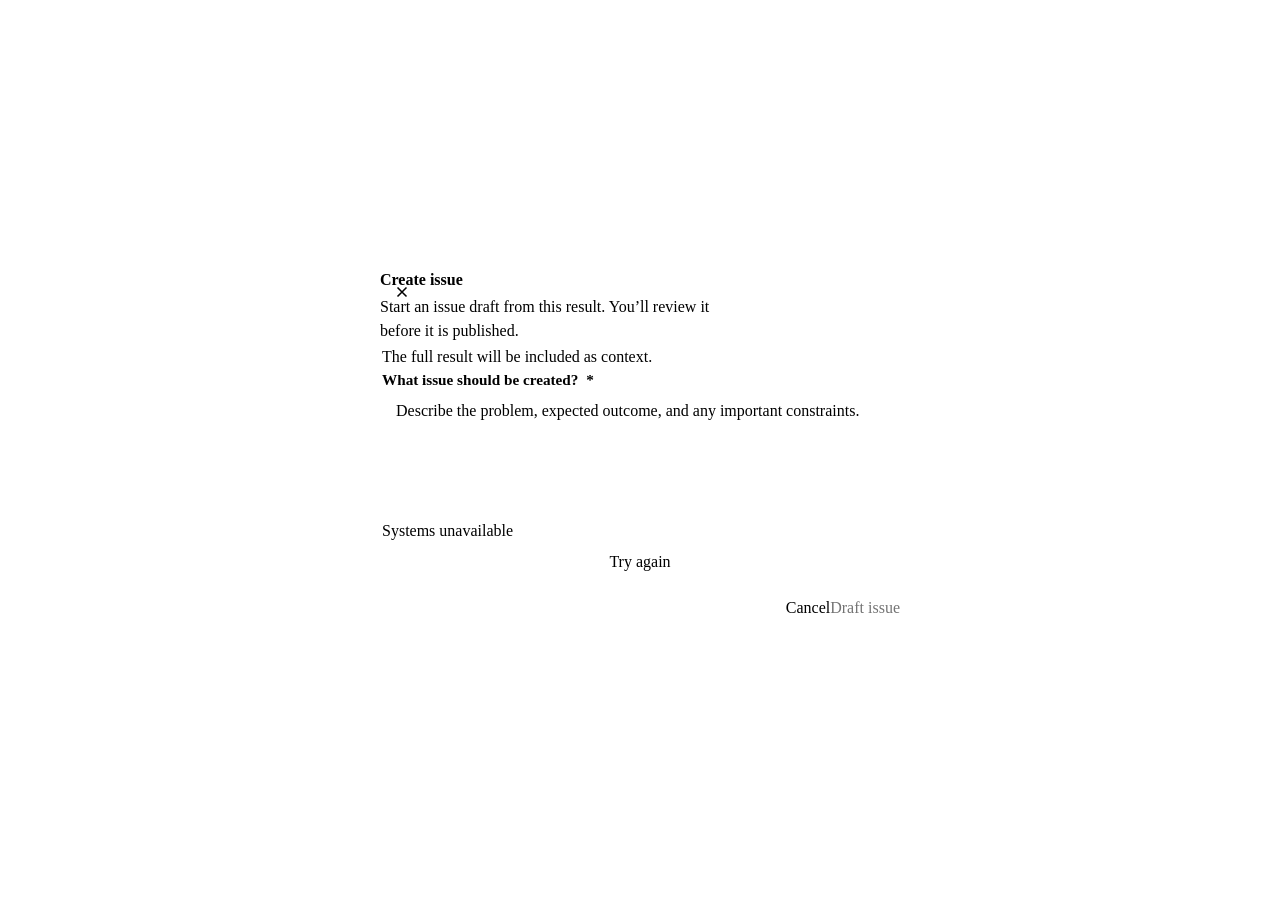
recovers ticket systems without losing typed instructions and requires an explicit system choice
Replace the text in the text box labelled "What issue should be created? *" with "Make the mobile flow usable" at (654, 456), box [382,390,926,522]
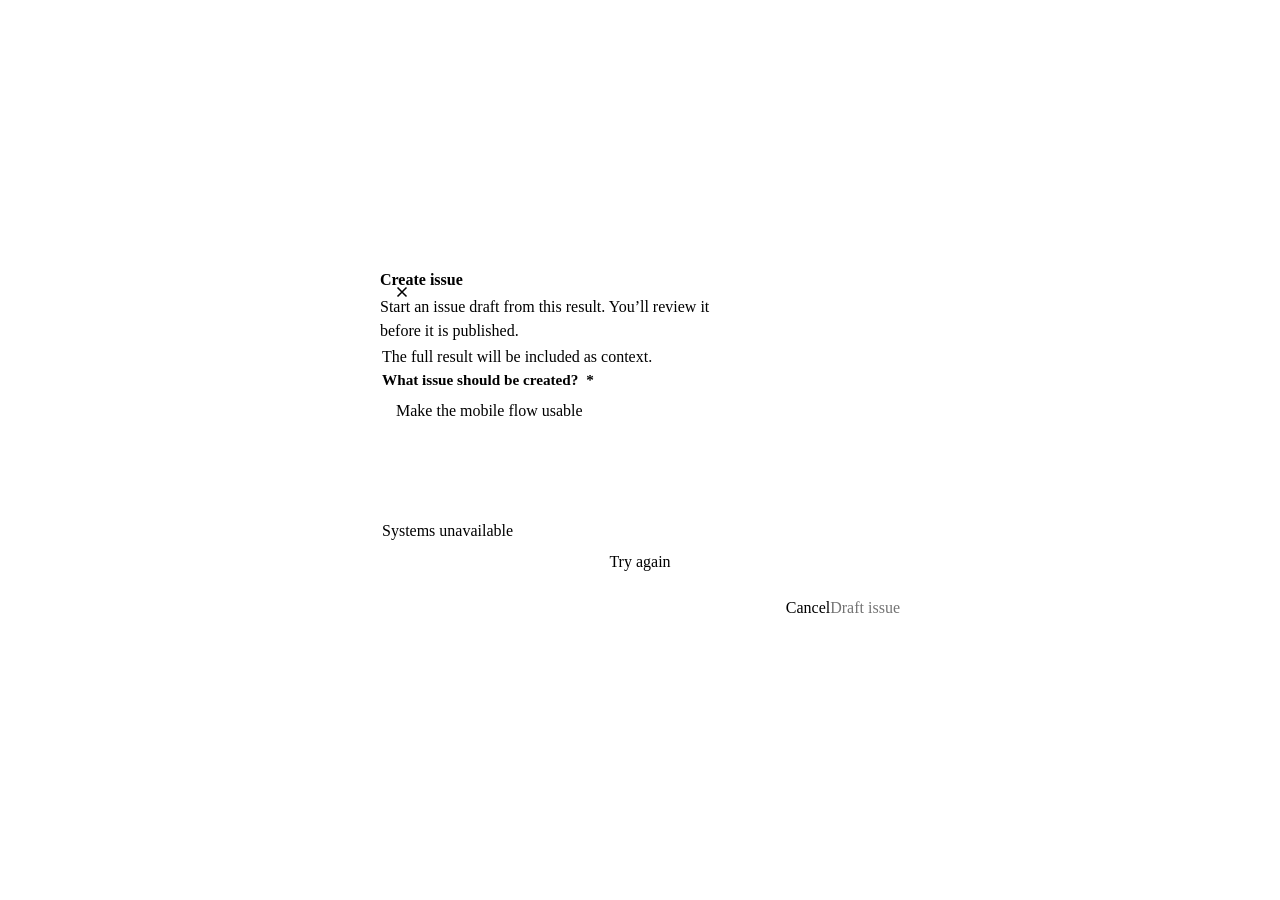
Click the button "Try again" at (640, 562), box [382,540,898,584]
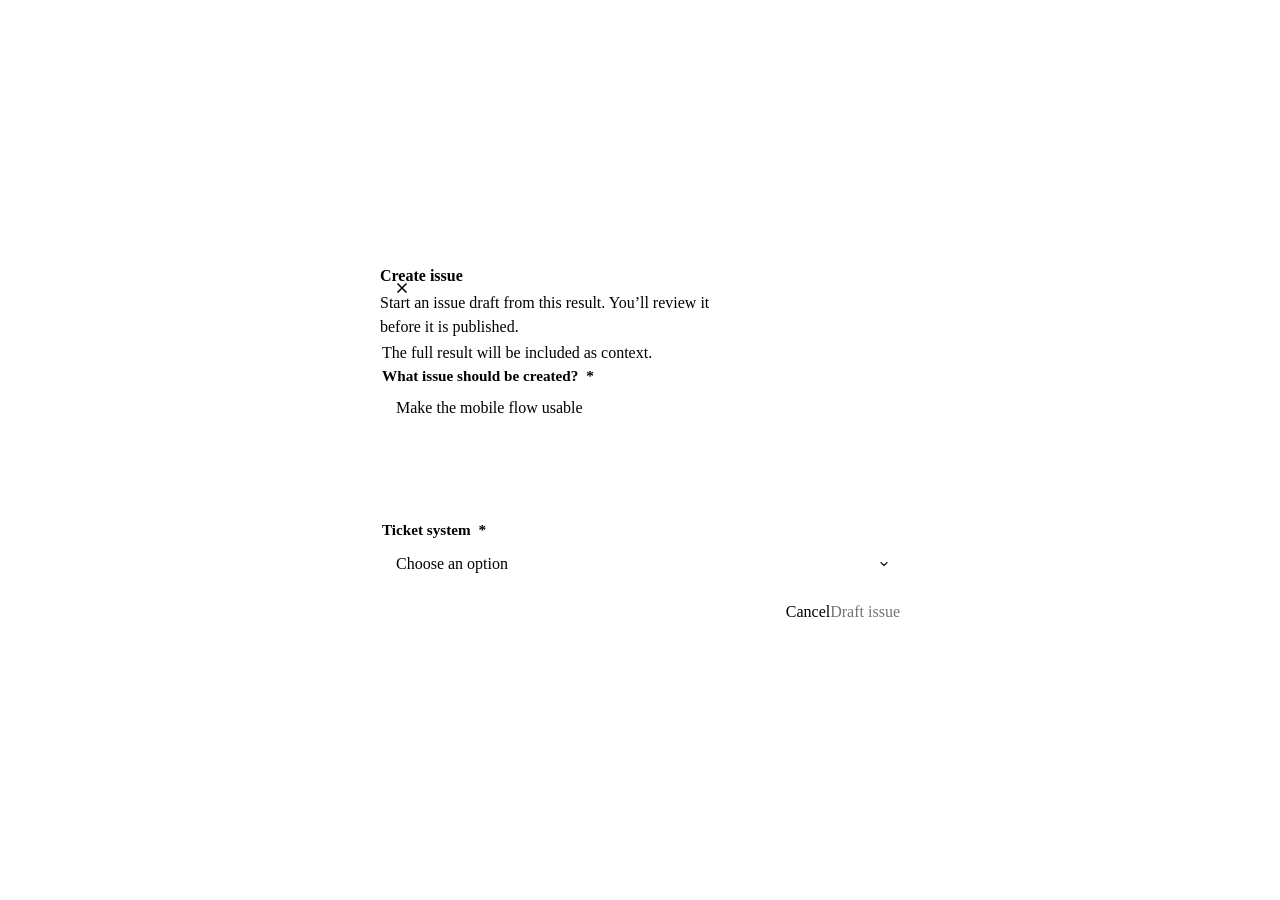
Check: the button "Draft issue" is disabled, box [830,590,900,634]
Select "Delta" in the dropdown labelled "Ticket system *" at (640, 564), box [382,540,898,588]
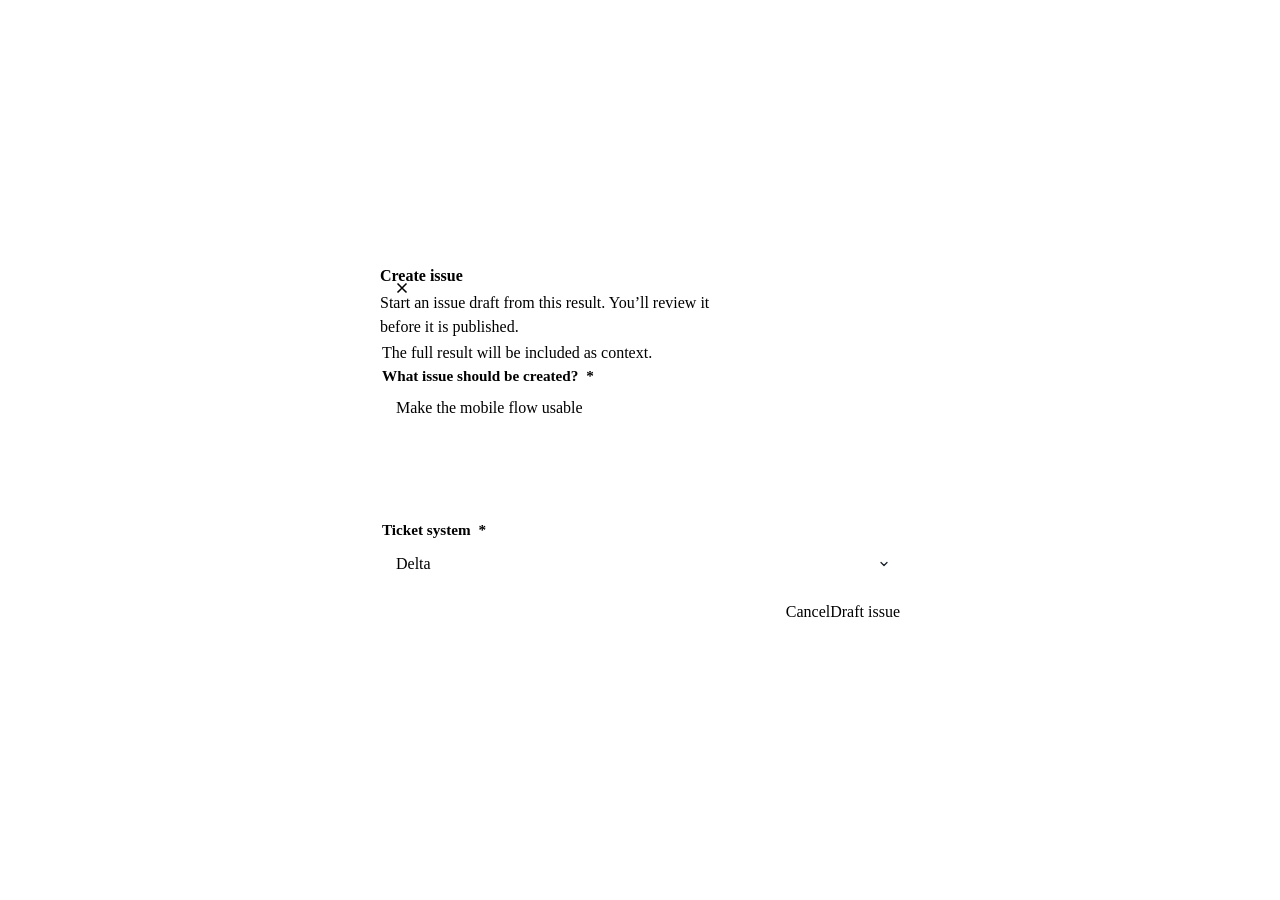
Check: the button "Draft issue" is enabled, box [830,590,900,634]
